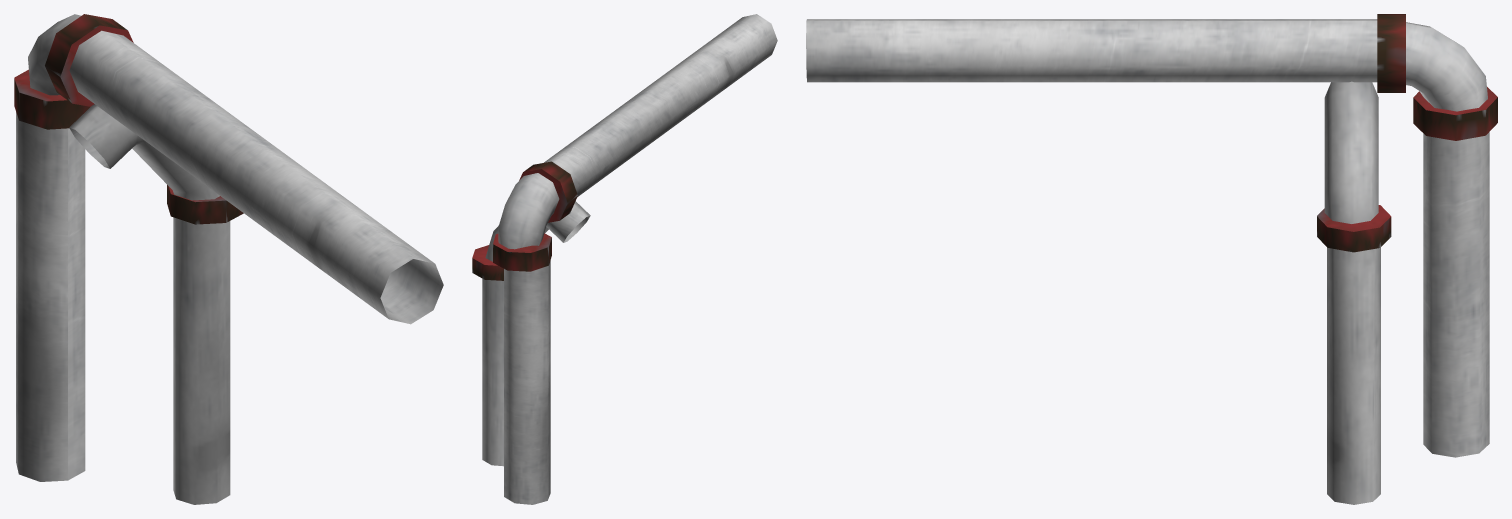
Rendered from OilFabricPipes.fbx.
3 renders of one model, left to right at view 1: azimuth 30°, elevation 25°; view 2: azimuth 150°, elevation 25°; view 3: azimuth 270°, elevation 25°, orthographic. The views are drawn at different scales.
Visible parts, largest first — view 1: Empty, zg, zg.001, zg.002; view 2: Empty, zg.001, zg, zg.002; view 3: Empty, zg.001, zg, zg.002.
Boxes of the visible parts, x1,y1,x2,y2 form: Empty: (16, 14, 443, 504); zg: (45, 14, 133, 106); zg.001: (14, 69, 89, 129); zg.002: (167, 185, 243, 224); Empty: (482, 14, 777, 504); zg.001: (493, 233, 551, 271); zg: (519, 161, 577, 222); zg.002: (472, 245, 503, 280); Empty: (806, 19, 1489, 504); zg.001: (1413, 87, 1497, 140); zg: (1377, 14, 1405, 92); zg.002: (1317, 205, 1391, 252).
Bounding box in the file's own units: 0.1379 × 0.3756 × 0.5354.
